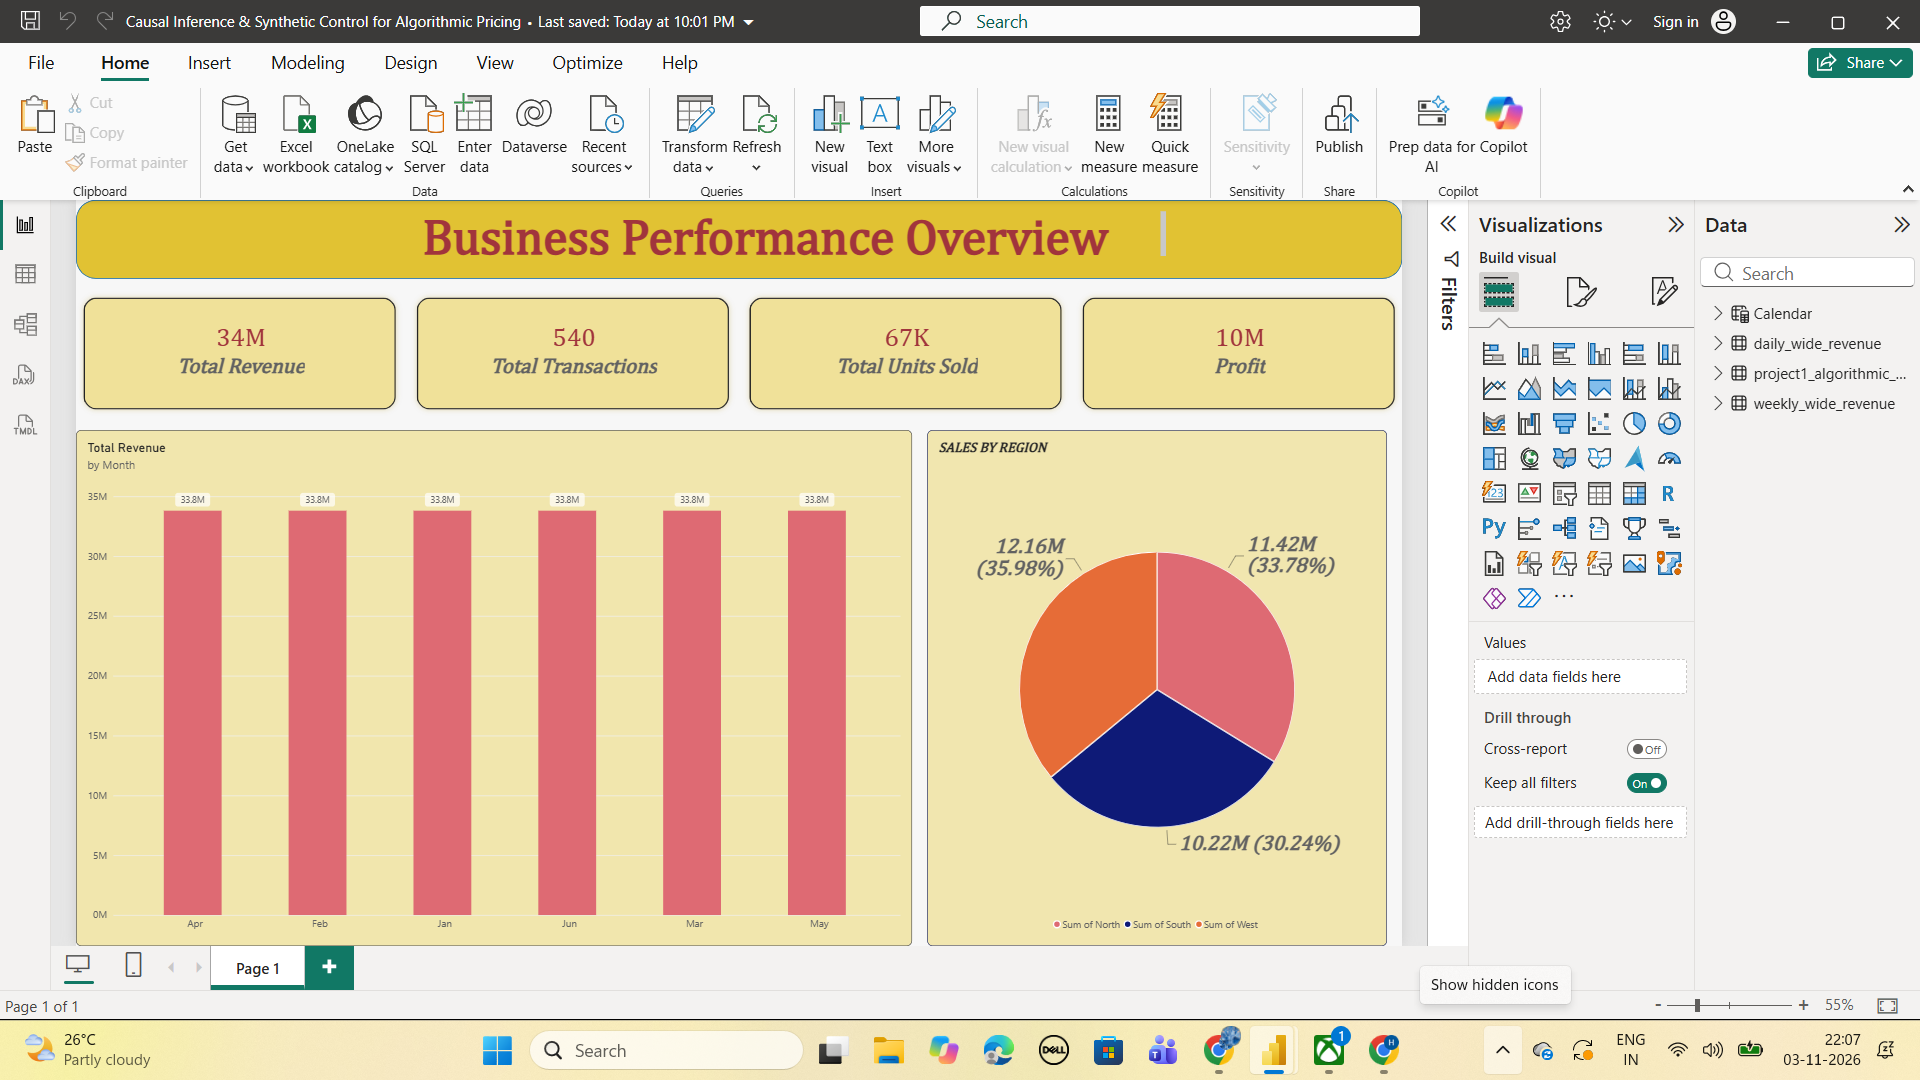

The dashboard page shown, as its layout file describes it:
{"tool":"powerbi","page":{"name":"Page 1","canvas":[1920,1080],"ordinal":0},"visuals":[{"type":"shape","box":[30.8,19.9,1889.3,114],"z":0},{"type":"textbox","box":[483.2,41.6,1436.9,139.3],"z":1000},{"type":"cardVisual","fields":{"Data":["weekly_wide_revenue.Total Revenue","weekly_wide_revenue.Total Transactions","weekly_wide_revenue.Total Units Sold","weekly_wide_revenue.Profit"]},"box":[30.8,133.9,1889.3,231.6],"z":2000},{"type":"lineClusteredColumnComboChart","fields":{"Category":["Calendar.Month"],"Y":["weekly_wide_revenue.Total Revenue"]},"box":[43.4,380,1134.7,671.4],"z":3000},{"type":"pieChart","title":"SALES BY REGION","fields":{"Y":["Sum(daily_wide_revenue.North)","Sum(daily_wide_revenue.South)","Sum(daily_wide_revenue.West)"]},"box":[1201.6,380,696.7,671.4],"z":4000}]}

Visuals, with their boxes on the page's 1920x1080 design canvas (x1, y1, x2, y2). These are canvas units, not pixel positions in the 1920x1080 screenshot, which may show the page scaled, cropped or inside an application window:
shape: [31,20,1920,134]
textbox: [483,42,1920,181]
cardVisual - weekly_wide_revenue.Total Revenue x weekly_wide_revenue.Total Transactions: [31,134,1920,366]
lineClusteredColumnComboChart - Calendar.Month x weekly_wide_revenue.Total Revenue: [43,380,1178,1051]
"SALES BY REGION" pieChart: [1202,380,1898,1051]
